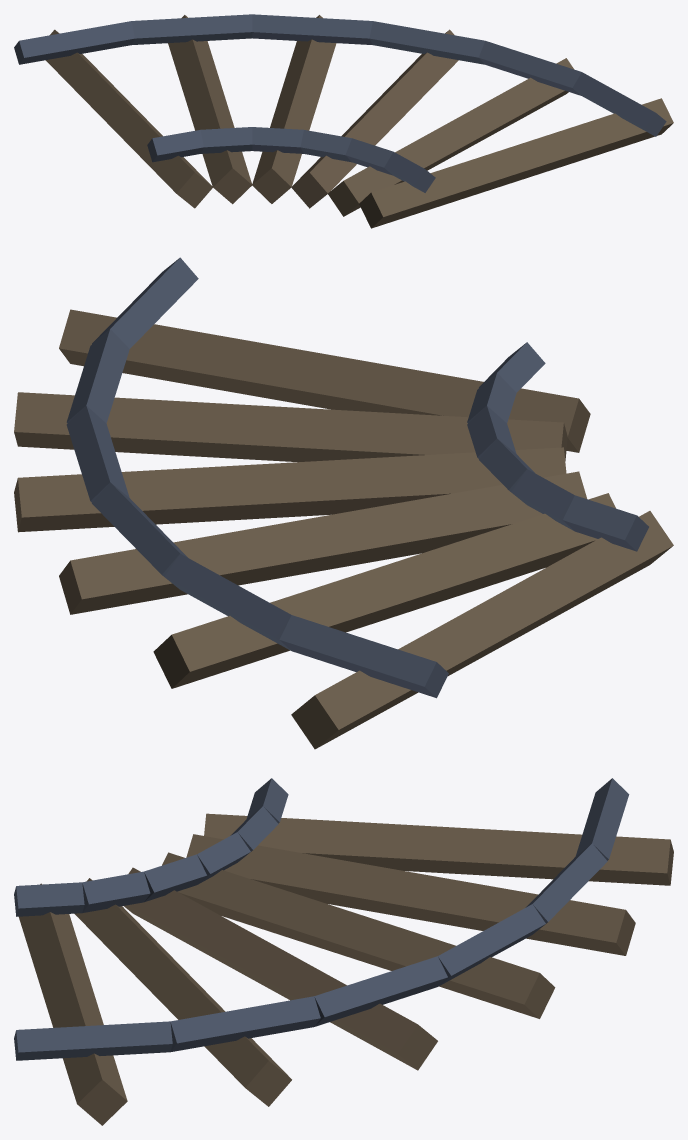
File: track-corner.glb
3 views of the same model, one above another, from view 1: azimuth 30°, elevation 25°; view 2: azimuth 150°, elevation 25°; view 3: azimuth 270°, elevation 25° (orthographic). The views are drawn at different scales.
Visible parts, largest first — view 1: track-corner__body; view 2: track-corner__body; view 3: track-corner__body.
Boxes of the visible parts, left/top/right/bottom form: track-corner__body: left=14, top=14, right=673, bottom=228; track-corner__body: left=14, top=257, right=673, bottom=749; track-corner__body: left=14, top=778, right=673, bottom=1125.
Size of the model in its own units: 1.55 by 0.185 by 1.55.
